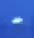Squash-Ball: (0, 1, 34, 38)
